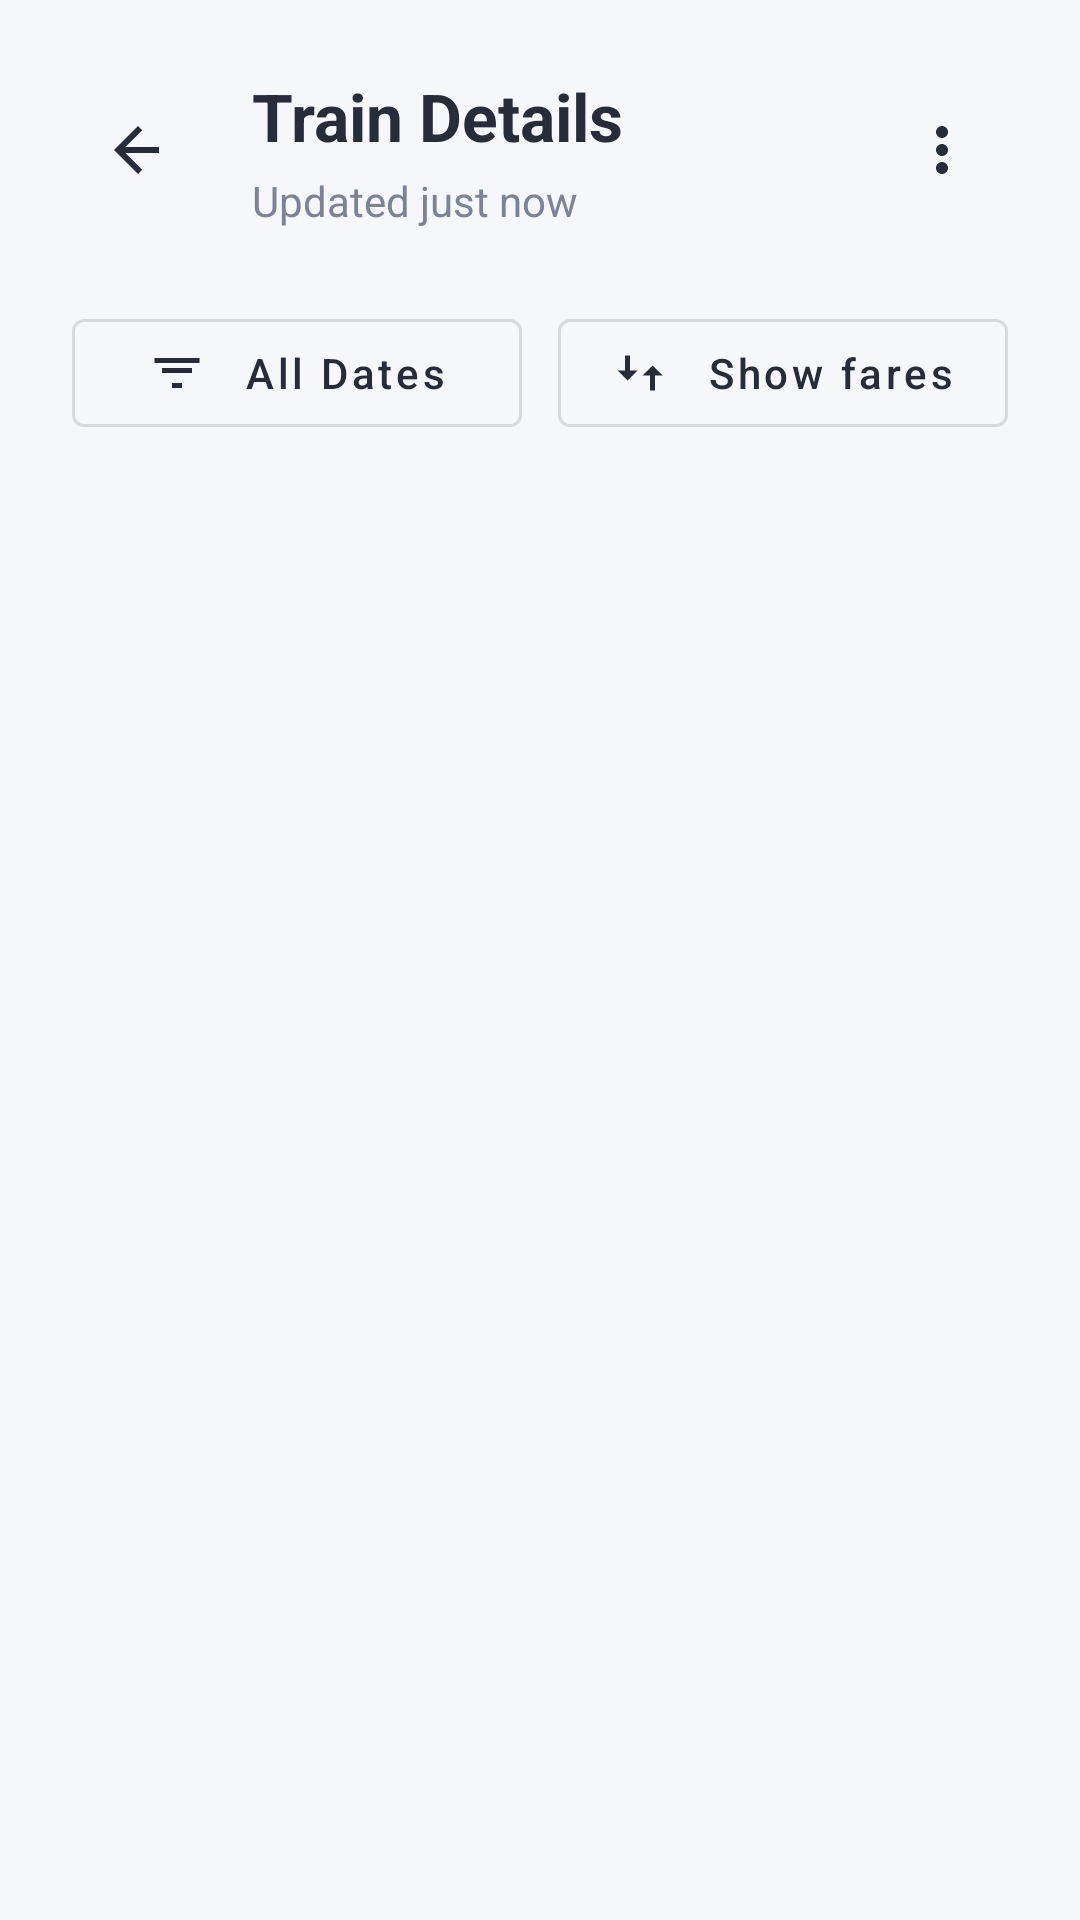

Named icons in this screenshot (1080x1920) and their centers, [x,y]:
Back: [136,150]
Show options: [942,150]
